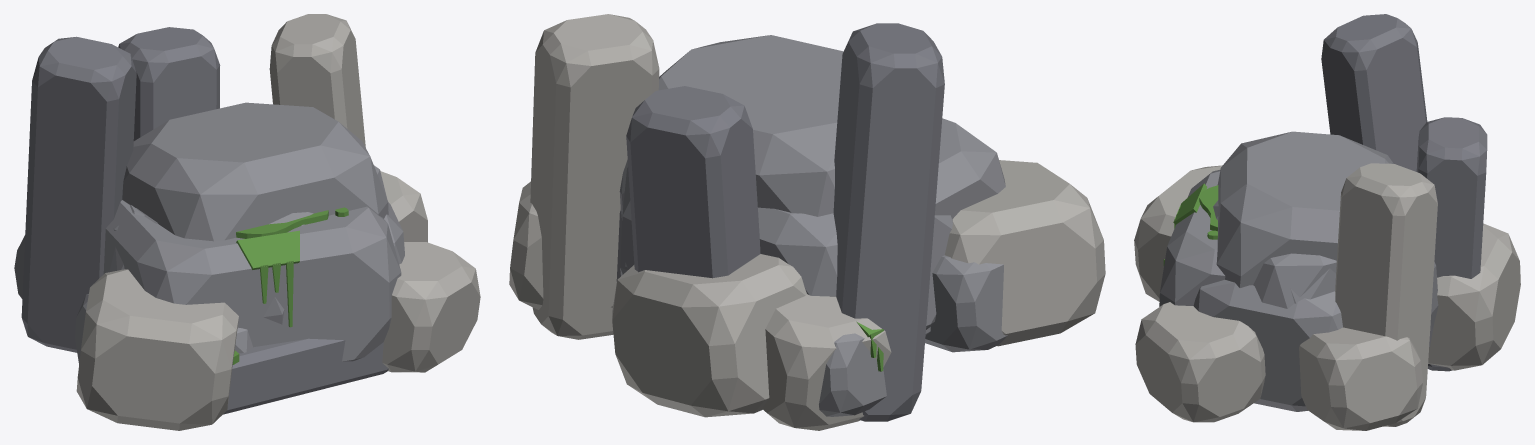
File: w1_rocks.fbx
3 renders of one model, left to right at view 1: azimuth 30°, elevation 25°; view 2: azimuth 150°, elevation 25°; view 3: azimuth 270°, elevation 25°, orthographic. The views are drawn at different scales.
Parts seen in each view (by area): view 1: StandingStone.Stones, Cliff.Accent, Cliff.Rock, MossyRockA.Rock, StandingStone.Accent, MossyRockA.Moss, BoulderB.Accent, MossyRockB.Rock, BoulderB.Rock; view 2: StandingStone.Stones, StandingStone.Accent, Cliff.Accent, BoulderA.Accent, Cliff.Rock, MossyRockA.Rock, MossyRockB.Rock, BoulderB.Accent, BoulderB.Rock; view 3: StandingStone.Stones, StandingStone.Accent, Cliff.Rock, Cliff.Accent, BoulderB.Accent, BoulderA.Accent, BoulderB.Rock, MossyRockA.Rock, MossyRockB.Rock, MossyRockA.Moss, BoulderA.Rock.
Part boxes in pixels (x1=…): StandingStone.Stones: x1=21, y1=27, x2=388, y2=414; Cliff.Accent: x1=76, y1=242, x2=480, y2=430; Cliff.Rock: x1=122, y1=102, x2=388, y2=241; MossyRockA.Rock: x1=14, y1=200, x2=401, y2=361; StandingStone.Accent: x1=269, y1=14, x2=365, y2=147; MossyRockA.Moss: x1=236, y1=207, x2=348, y2=327; BoulderB.Accent: x1=380, y1=171, x2=427, y2=242; MossyRockB.Rock: x1=75, y1=165, x2=389, y2=364; BoulderB.Rock: x1=109, y1=202, x2=404, y2=272; StandingStone.Stones: x1=626, y1=23, x2=944, y2=421; StandingStone.Accent: x1=530, y1=14, x2=659, y2=339; Cliff.Accent: x1=762, y1=160, x2=1105, y2=430; BoulderA.Accent: x1=612, y1=254, x2=806, y2=417; Cliff.Rock: x1=619, y1=35, x2=843, y2=220; MossyRockA.Rock: x1=616, y1=118, x2=1005, y2=416; MossyRockB.Rock: x1=620, y1=167, x2=1007, y2=352; BoulderB.Accent: x1=509, y1=181, x2=614, y2=309; BoulderB.Rock: x1=926, y1=215, x2=952, y2=329; StandingStone.Stones: x1=1321, y1=14, x2=1487, y2=371; StandingStone.Accent: x1=1335, y1=163, x2=1437, y2=426; Cliff.Rock: x1=1216, y1=131, x2=1393, y2=287; Cliff.Accent: x1=1134, y1=165, x2=1265, y2=422; BoulderB.Accent: x1=1299, y1=327, x2=1423, y2=430; BoulderA.Accent: x1=1428, y1=223, x2=1520, y2=370; BoulderB.Rock: x1=1193, y1=280, x2=1342, y2=411; MossyRockA.Rock: x1=1159, y1=169, x2=1225, y2=306; MossyRockB.Rock: x1=1213, y1=200, x2=1438, y2=328; MossyRockA.Moss: x1=1173, y1=183, x2=1218, y2=239; BoulderA.Rock: x1=1290, y1=268, x2=1433, y2=346.
Bounding box in the file's own units: 10.47 × 7.34 × 9.11.
